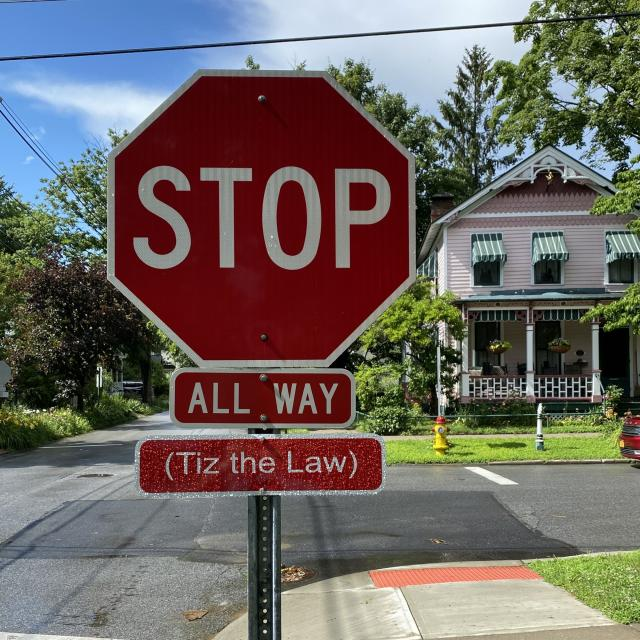stop-sign: (117, 106, 407, 339)
